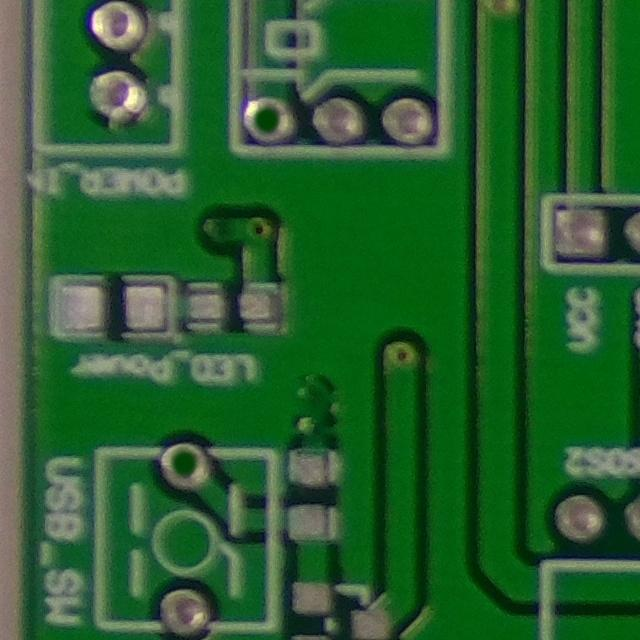missing_hole: (238, 94, 304, 152), (159, 442, 214, 491)
